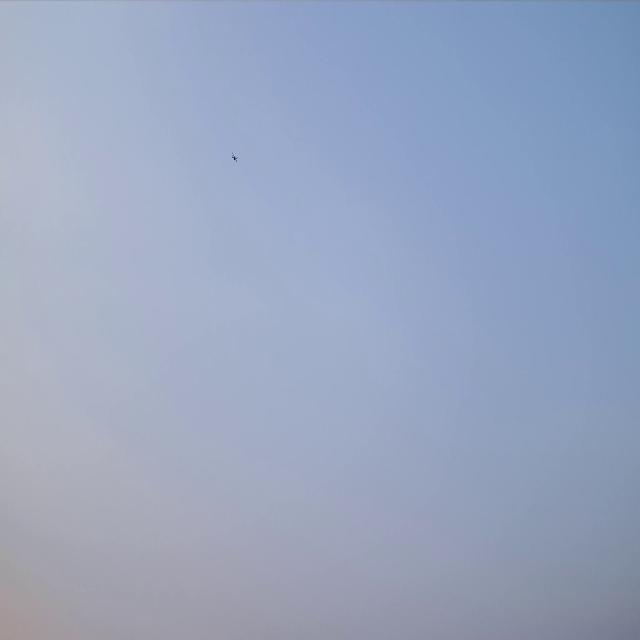UAV: (232, 154, 237, 160)
